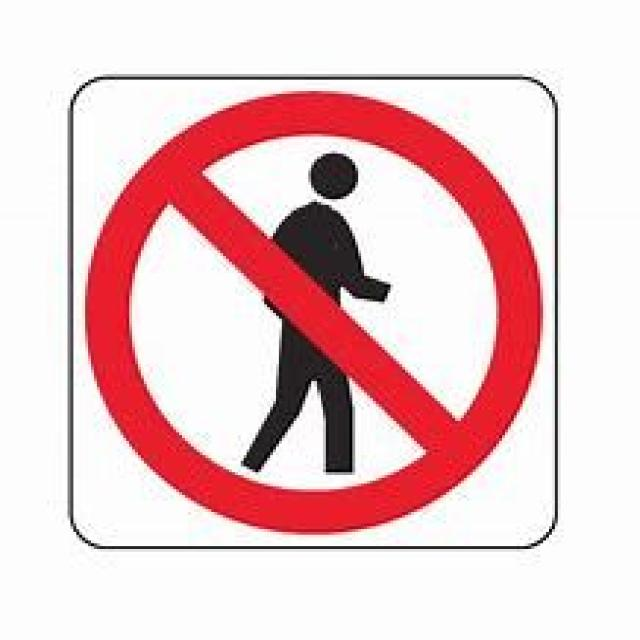Priority road: (79, 82, 543, 532)
